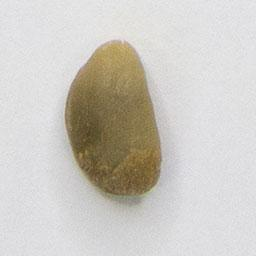longberry: (61, 33, 166, 201)
